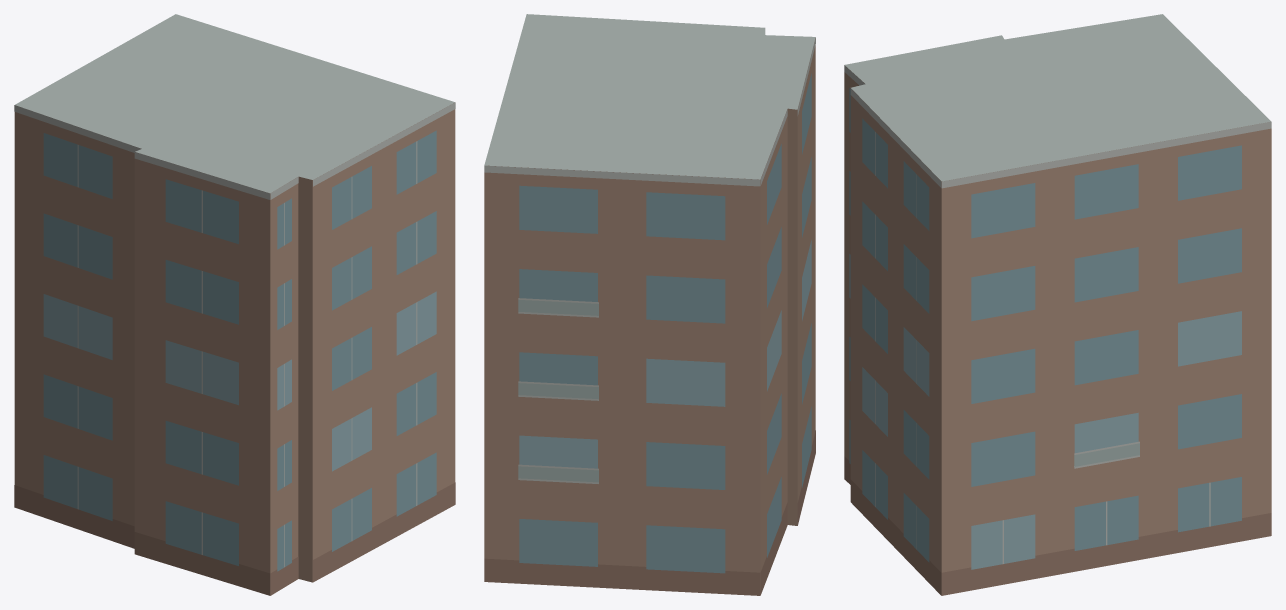
Rendered from survey-upis-32684586.glb.
3 views of the same model, side by side, from view 1: azimuth 30°, elevation 25°; view 2: azimuth 150°, elevation 25°; view 3: azimuth 270°, elevation 25° (orthographic). The views are drawn at different scales.
Parts seen in each view (by area): view 1: survey-upis-32684586.tmp; view 2: survey-upis-32684586.tmp; view 3: survey-upis-32684586.tmp.
Boxes of the visible parts, x1,y1,x2,y2 form: survey-upis-32684586.tmp: (14,14,455,595); survey-upis-32684586.tmp: (484,14,815,595); survey-upis-32684586.tmp: (844,14,1271,595).
Size of the model in its own units: 12.67 by 14.6 by 13.65.
